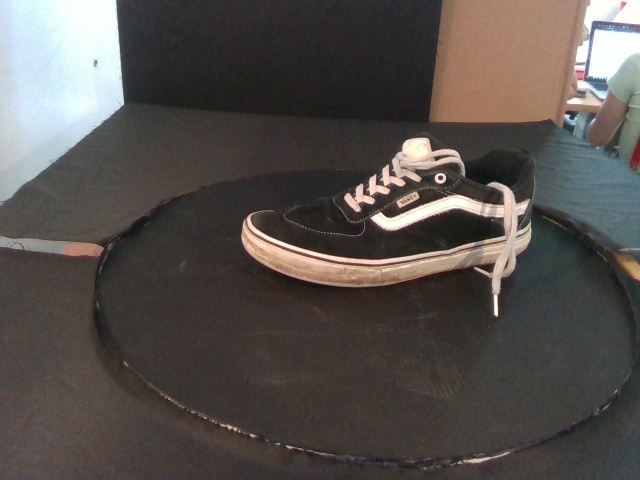shoe: (240, 131, 535, 289)
